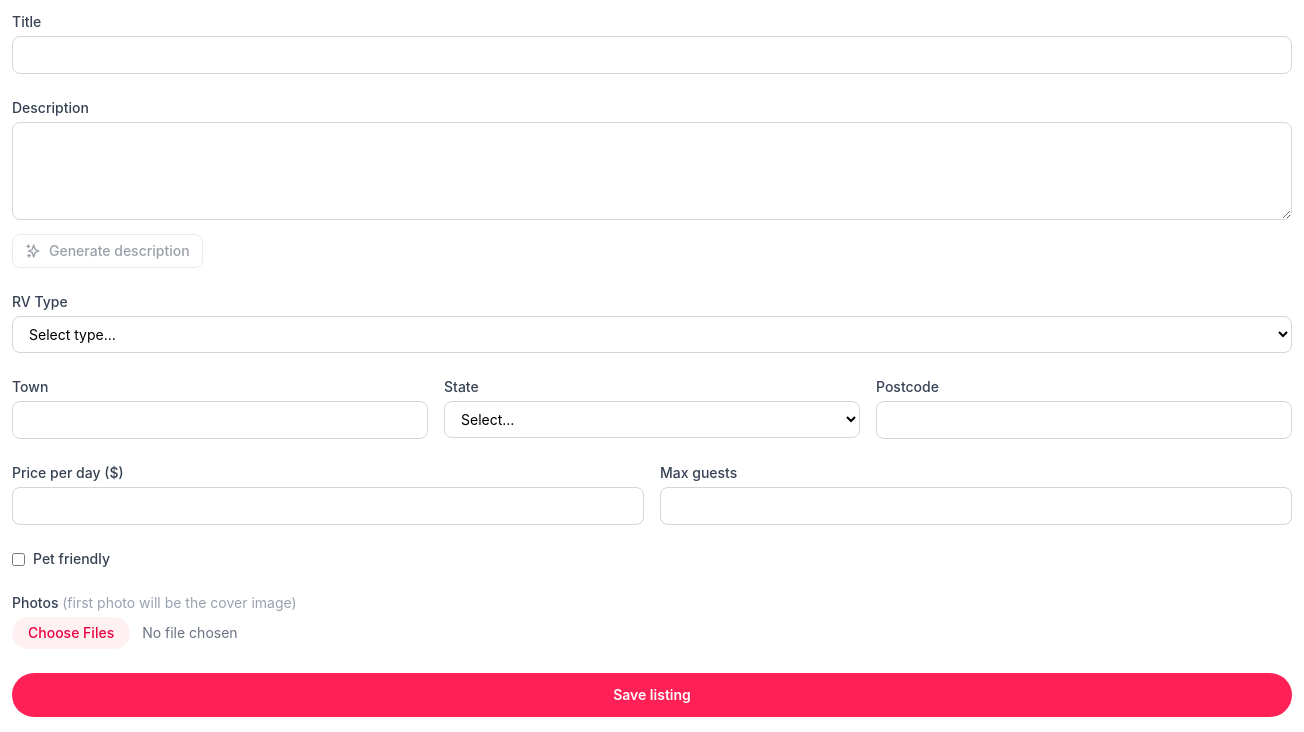
Scenario: ListingForm › Generate description button › is enabled once rv_type, town, state, and max_guests are filled
Select "Caravan" in the dropdown labelled "RV Type" at (652, 334), box [12,316,1292,353]
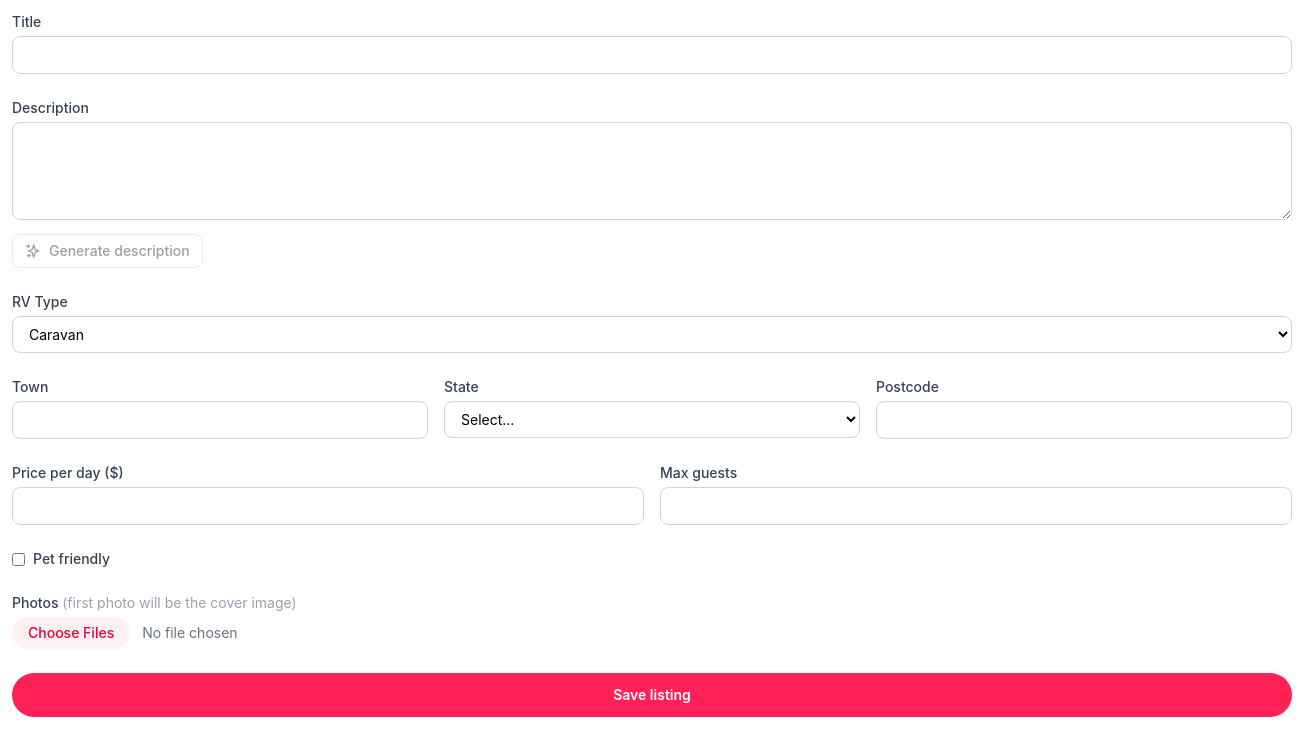
Type "Byron Bay" into the field labelled "Town" at (220, 420), box [12,401,428,439]
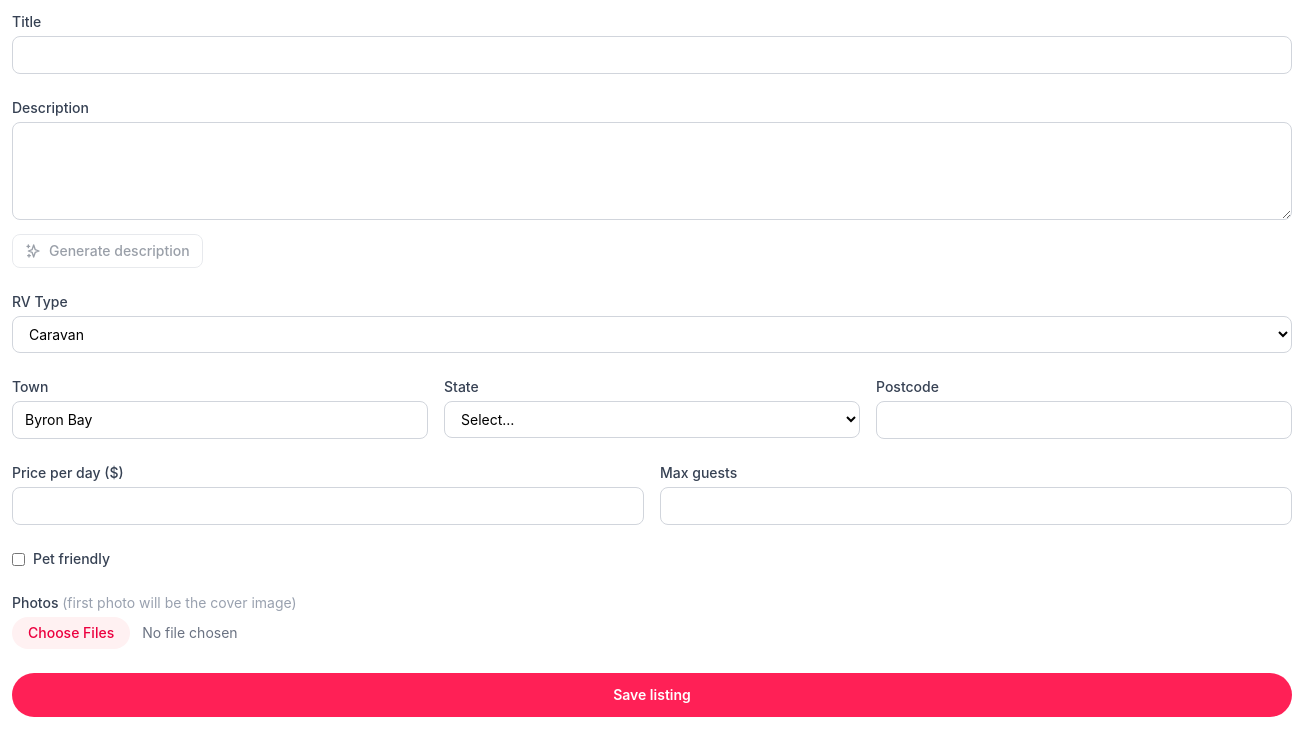
Select "NSW" in the dropdown labelled "State" at (652, 420), box [444,401,860,438]
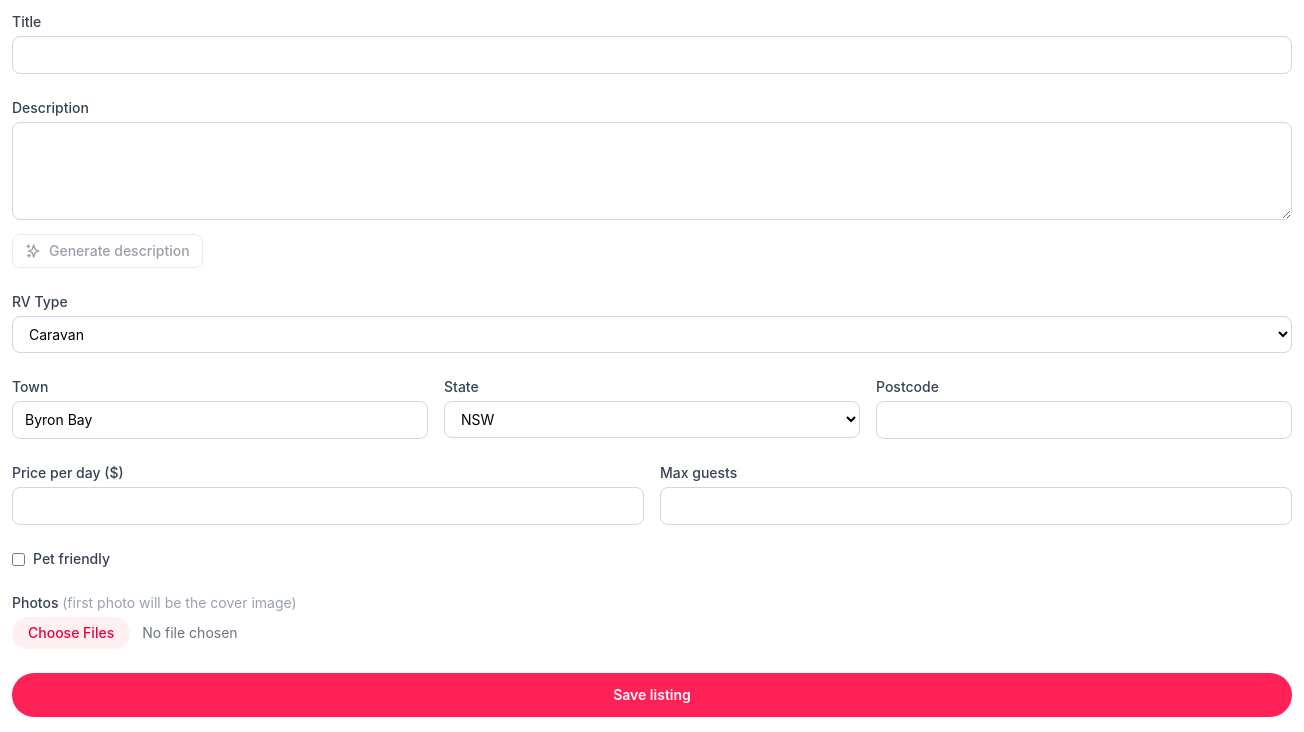
Type "4" into the number field labelled "Max guests" at (976, 506), box [660,487,1292,525]
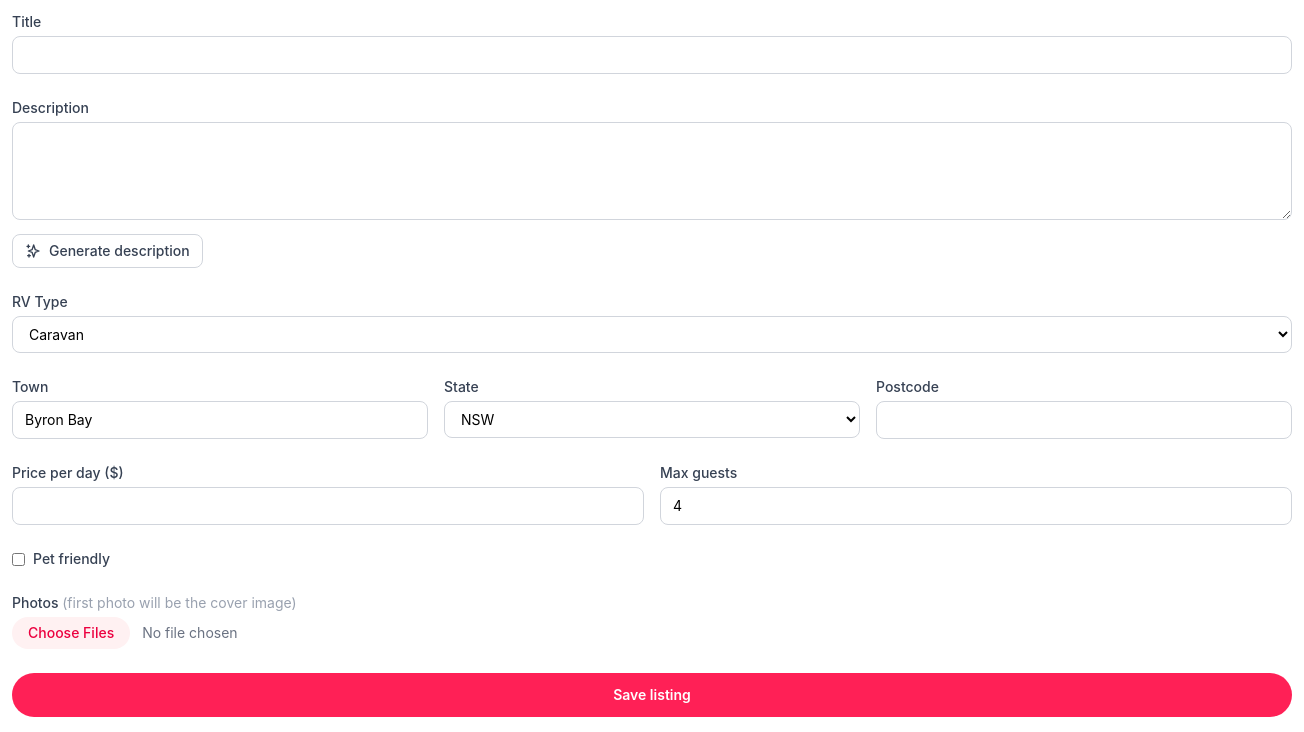
Check: the button "Generate description" is enabled, box [12,234,203,268]
